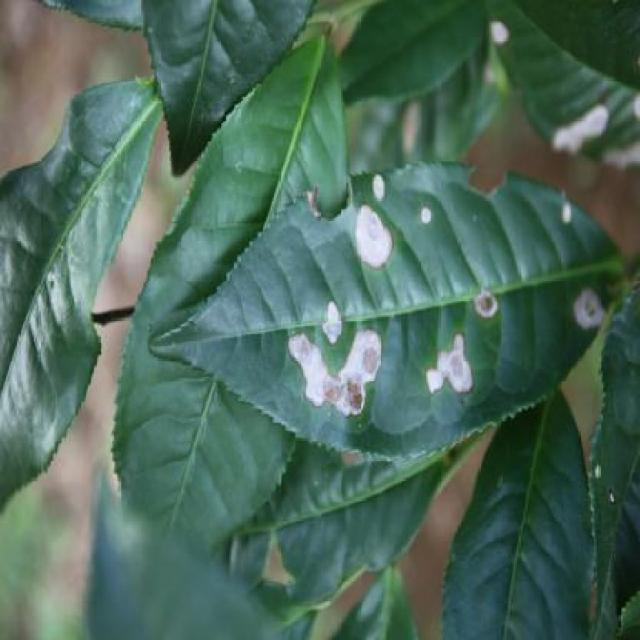Leaf rust of tea: (171, 158, 620, 448)
